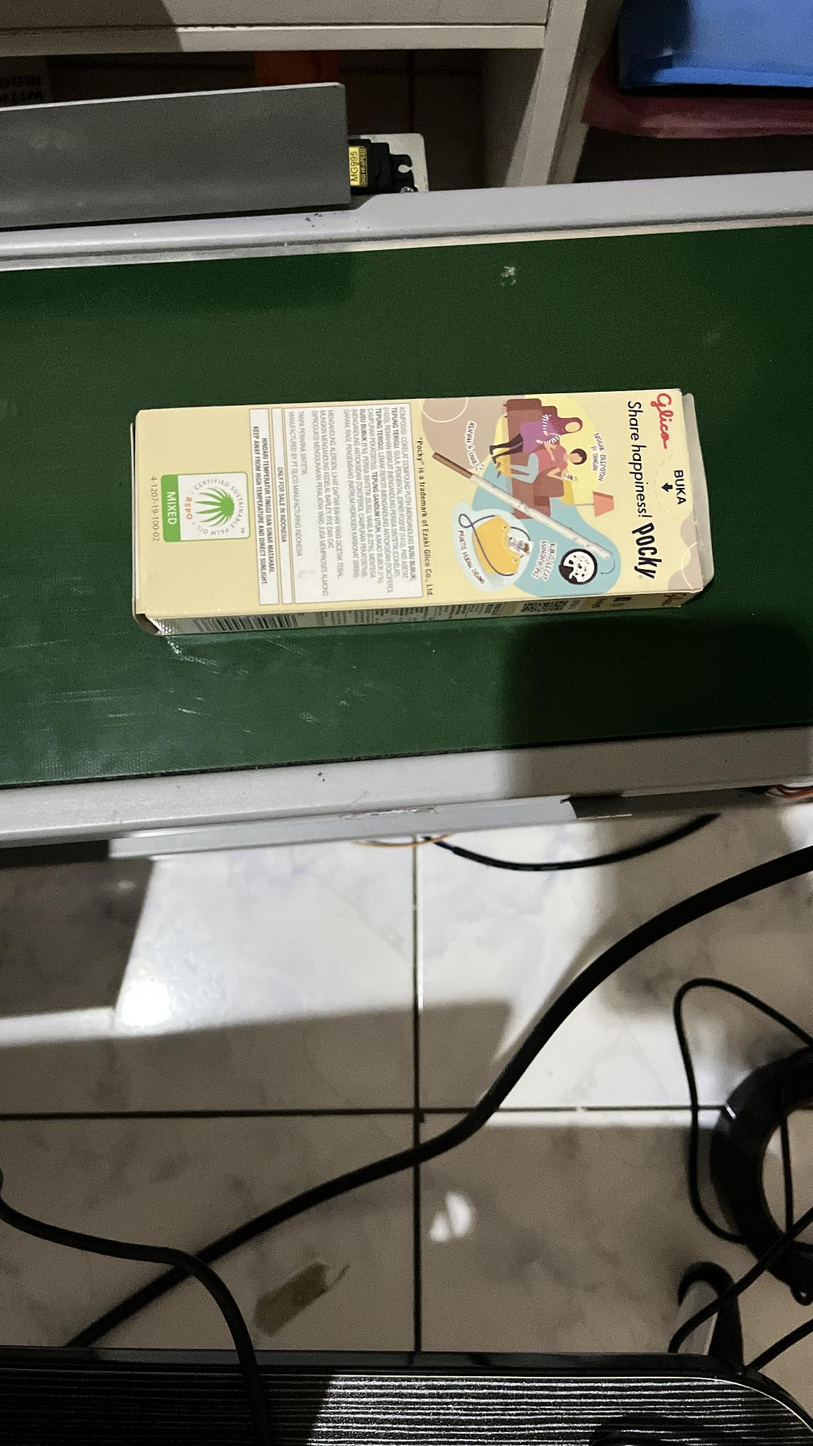Kertas: (129, 409, 695, 610)
